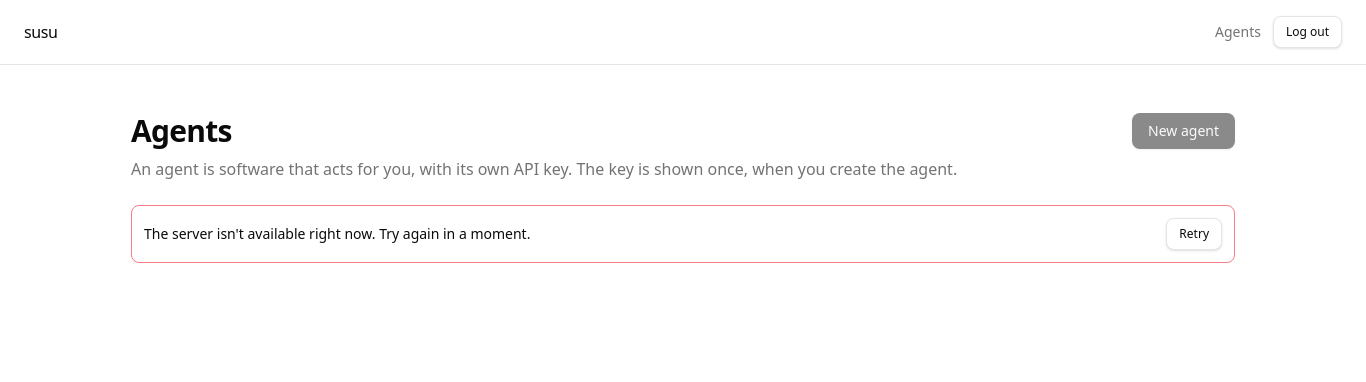
Test case: list › a failed load is reported and Retry reloads
Expected: the message shows "server isn't available", [144, 224, 530, 243]
Click the button "Retry". click: (1194, 234)
box: [1166, 218, 1222, 250]
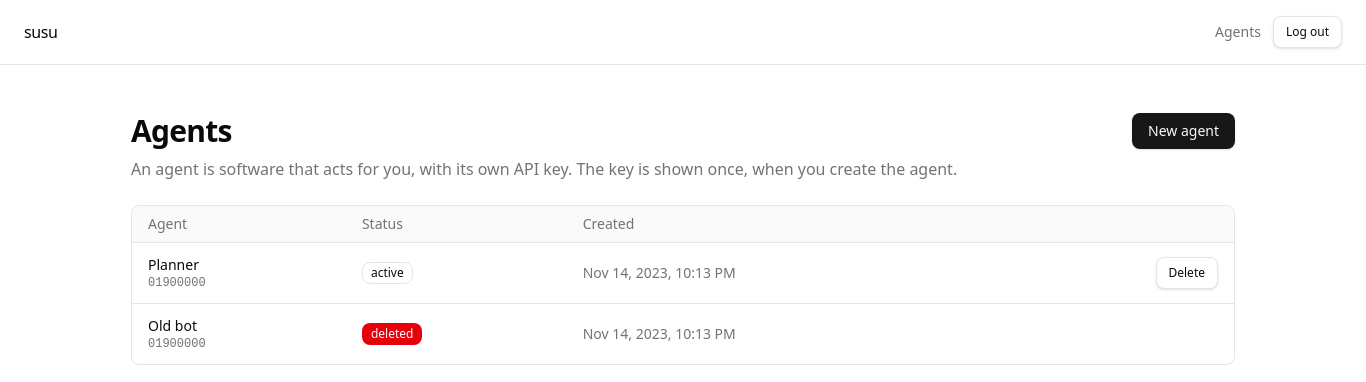
Now the text "Planner" is shown, box [148, 255, 199, 274]
Now the message "The server isn't available right now. Try again in a moment. Retry" is gone
